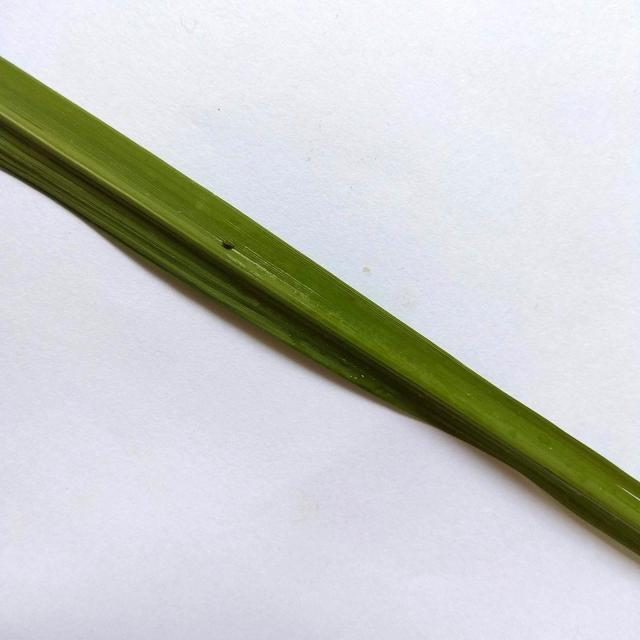healthy: (3, 51, 640, 557)
